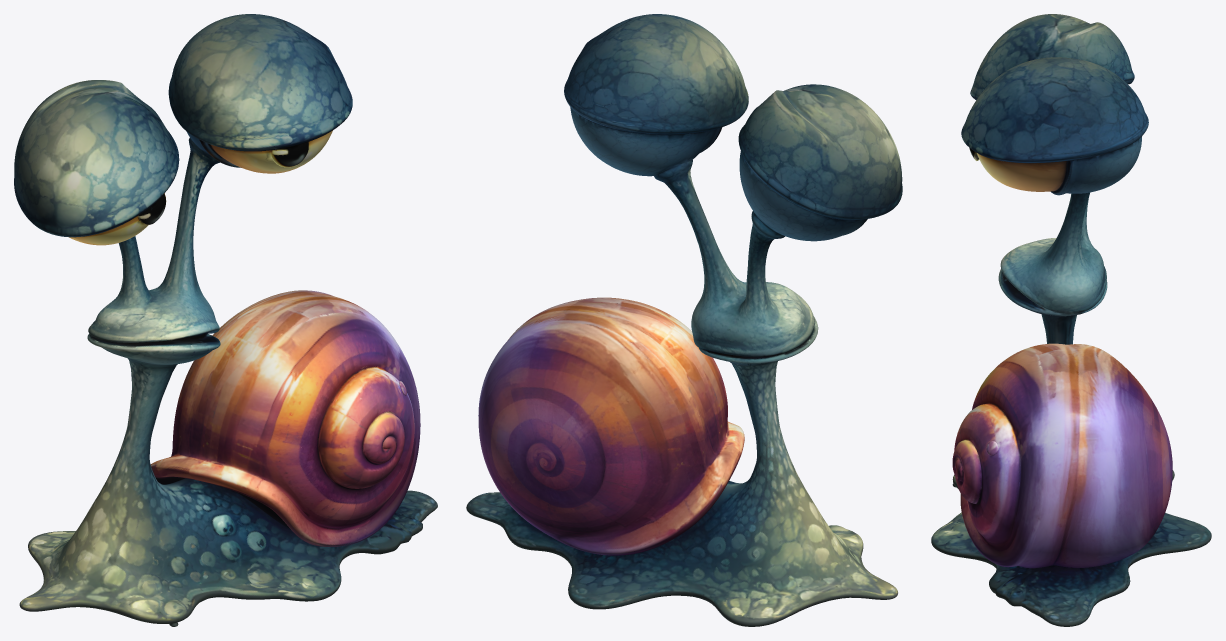
File: pixellabs-stylized-snail-3d-model-4856.high.glb
The picture shows the model from 3 angles, left to right: view 1: azimuth 30°, elevation 25°; view 2: azimuth 150°, elevation 25°; view 3: azimuth 270°, elevation 25°; orthographic projection. The views are drawn at different scales.
Parts seen in each view (by area): view 1: node_0; view 2: node_0; view 3: node_0.
Part boxes in pixels (x1,y1,x2,y2): node_0: (14,14,437,626); node_0: (466,14,902,626); node_0: (931,14,1211,626).
Bounding box in the file's own units: 0.7742 × 0.9255 × 0.4867.
Materials: 1 (1 with a texture image).
